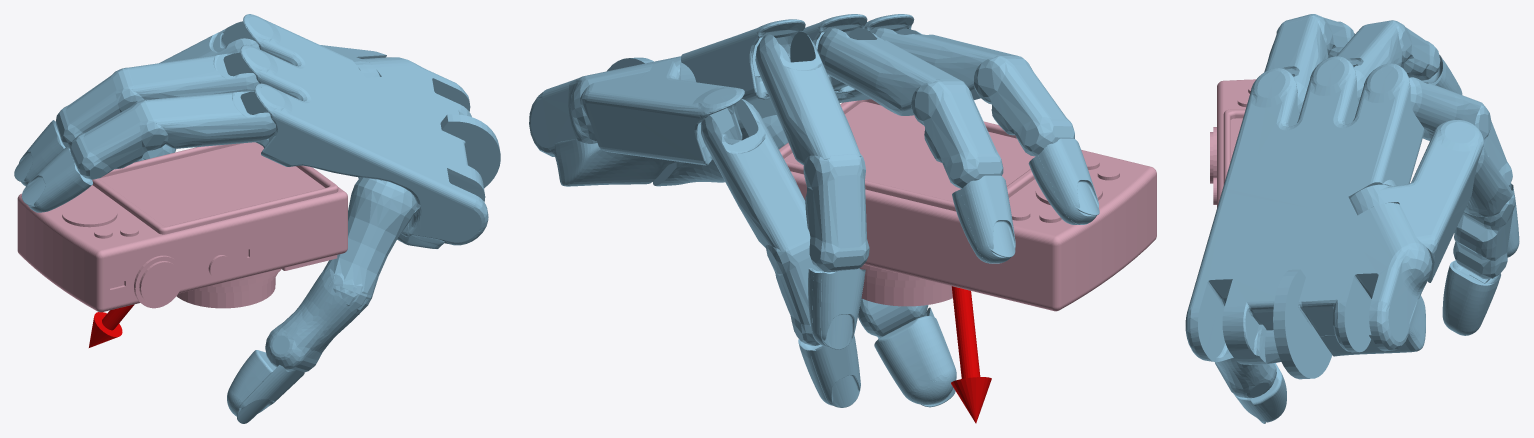
3 renders of one model, left to right at view 1: azimuth 30°, elevation 25°; view 2: azimuth 150°, elevation 25°; view 3: azimuth 270°, elevation 25°, orthographic. The views are drawn at different scales.
Visible parts, largest first — view 1: world, camera.stl; view 2: world, camera.stl; view 3: world, camera.stl.
Part boxes in pixels (x1,y1,x2,y2): world: (14, 14, 500, 423); camera.stl: (17, 142, 347, 312); world: (529, 14, 1099, 423); camera.stl: (779, 99, 1156, 311); world: (1185, 14, 1519, 423); camera.stl: (1210, 79, 1255, 207).
Bounding box in the file's own units: 0.2043 × 0.1491 × 0.116.
